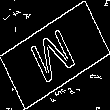M_SE: (28, 21, 82, 89)
